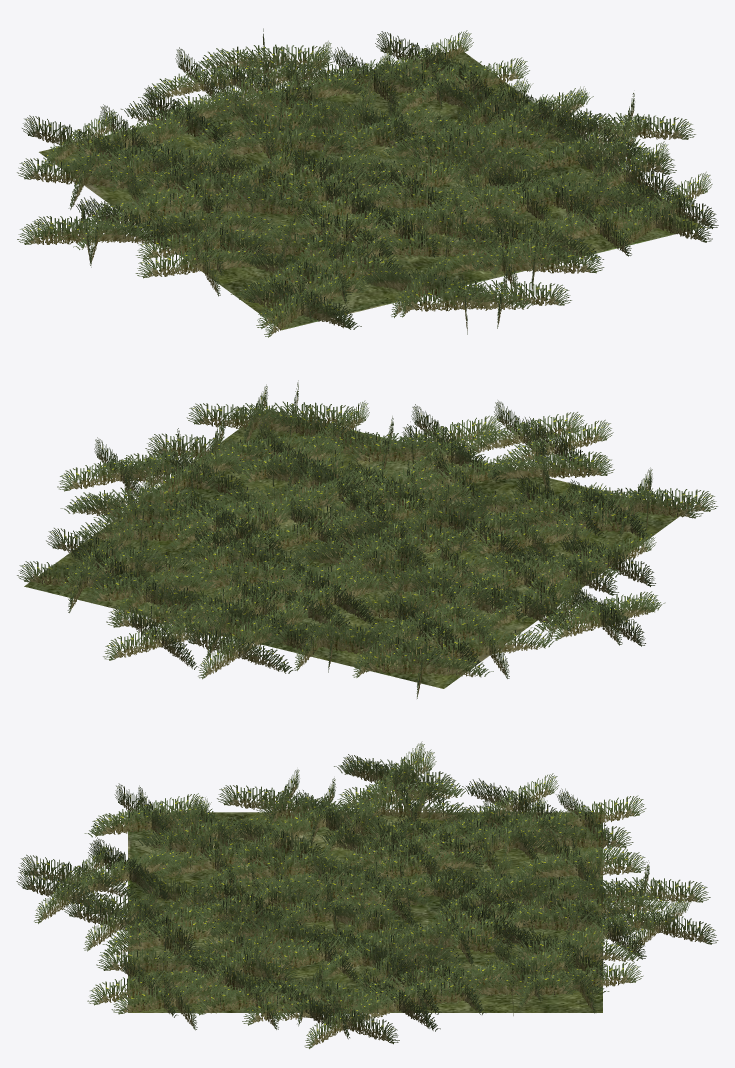
File: grass2.obj
The picture shows the model from 3 angles, top to bottom: view 1: azimuth 30°, elevation 25°; view 2: azimuth 150°, elevation 25°; view 3: azimuth 270°, elevation 25°; orthographic projection. The views are drawn at different scales.
Visible parts, largest first — view 1: clump, mudgrass; view 2: clump, mudgrass; view 3: clump, mudgrass.
Part boxes in pixels (left/top/right/bottom): clump: left=17, top=28, right=718, bottom=337; mudgrass: left=39, top=50, right=703, bottom=330; clump: left=17, top=380, right=717, bottom=698; mudgrass: left=24, top=409, right=681, bottom=688; clump: left=16, top=741, right=718, bottom=1048; mudgrass: left=128, top=812, right=602, bottom=1012.
Size of the model in its own units: 112 by 4.24 by 113.
Materials: 2 (2 with a texture image).
